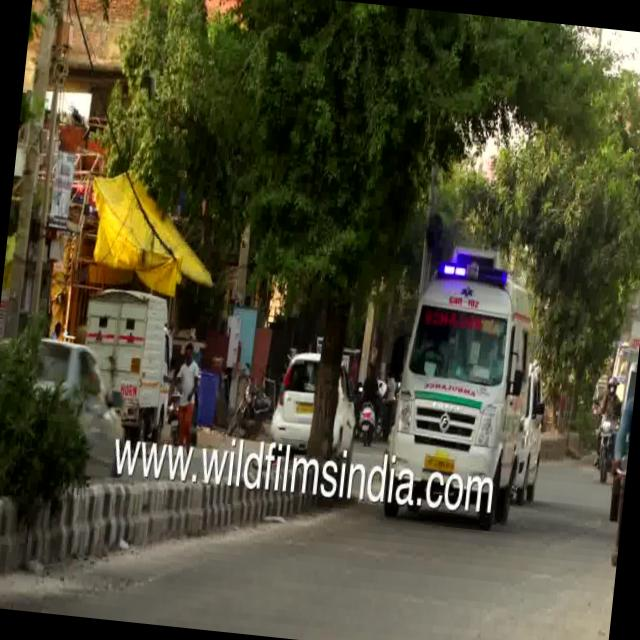ambulance: (386, 238, 556, 486)
